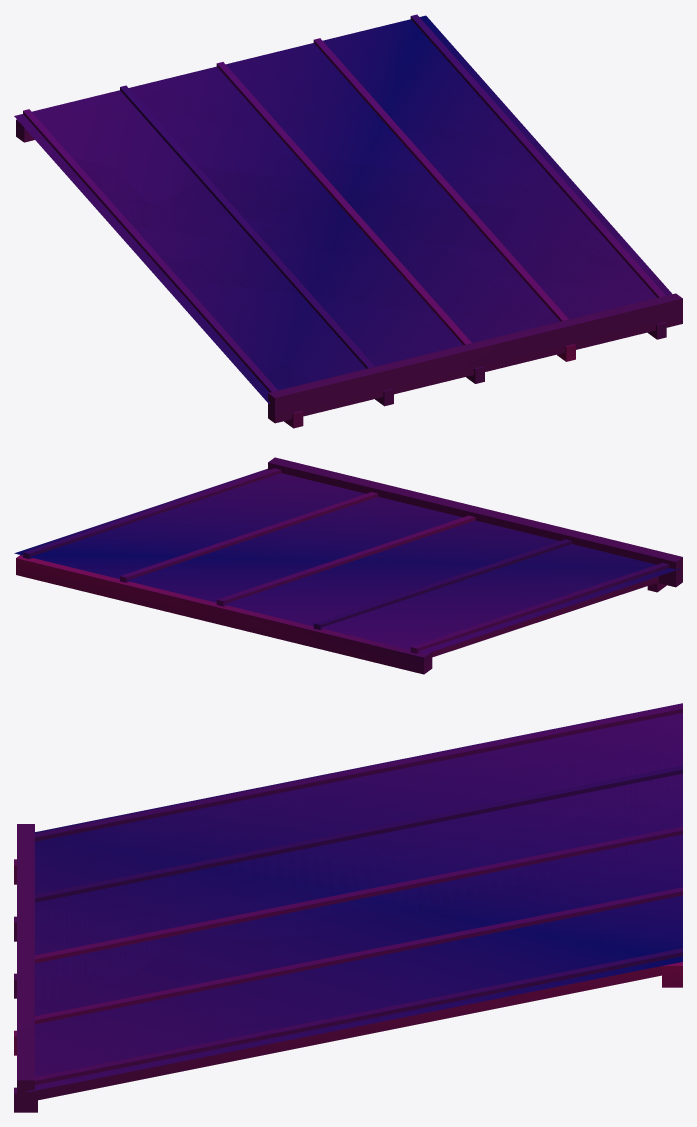
File: roof_shed_4m.glb
3 renders of one model, top to bottom at view 1: azimuth 30°, elevation 25°; view 2: azimuth 150°, elevation 25°; view 3: azimuth 270°, elevation 25°, orthographic. The views are drawn at different scales.
Parts seen in each view (by area): view 1: roof_slope, roof_fascia; view 2: roof_slope, roof_fascia; view 3: roof_slope, roof_fascia.
Part boxes in pixels (bbox=[...]): roof_slope: bbox=[14, 14, 672, 403]; roof_fascia: bbox=[16, 119, 682, 428]; roof_slope: bbox=[14, 468, 680, 653]; roof_fascia: bbox=[16, 457, 682, 674]; roof_slope: bbox=[27, 703, 682, 1092]; roof_fascia: bbox=[14, 824, 682, 1112].
Size of the model in its own units: 4.08 by 1.23 by 4.46.
